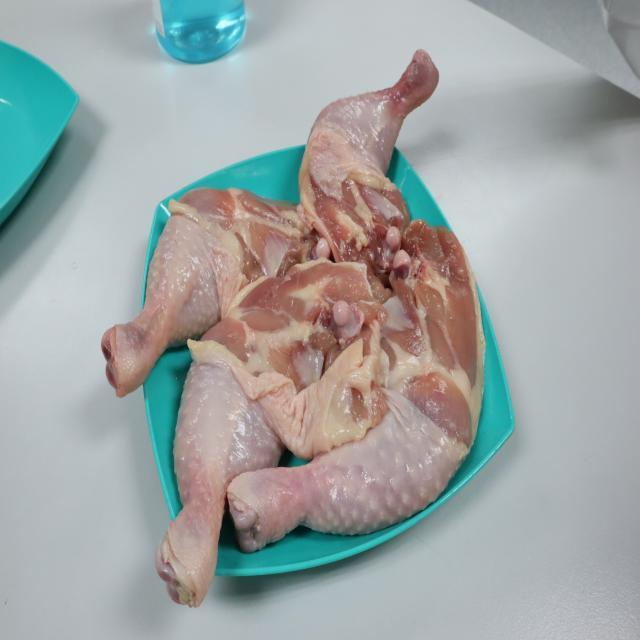quater: (244, 233, 524, 527), (74, 174, 324, 373), (157, 314, 313, 620), (277, 26, 439, 238)
